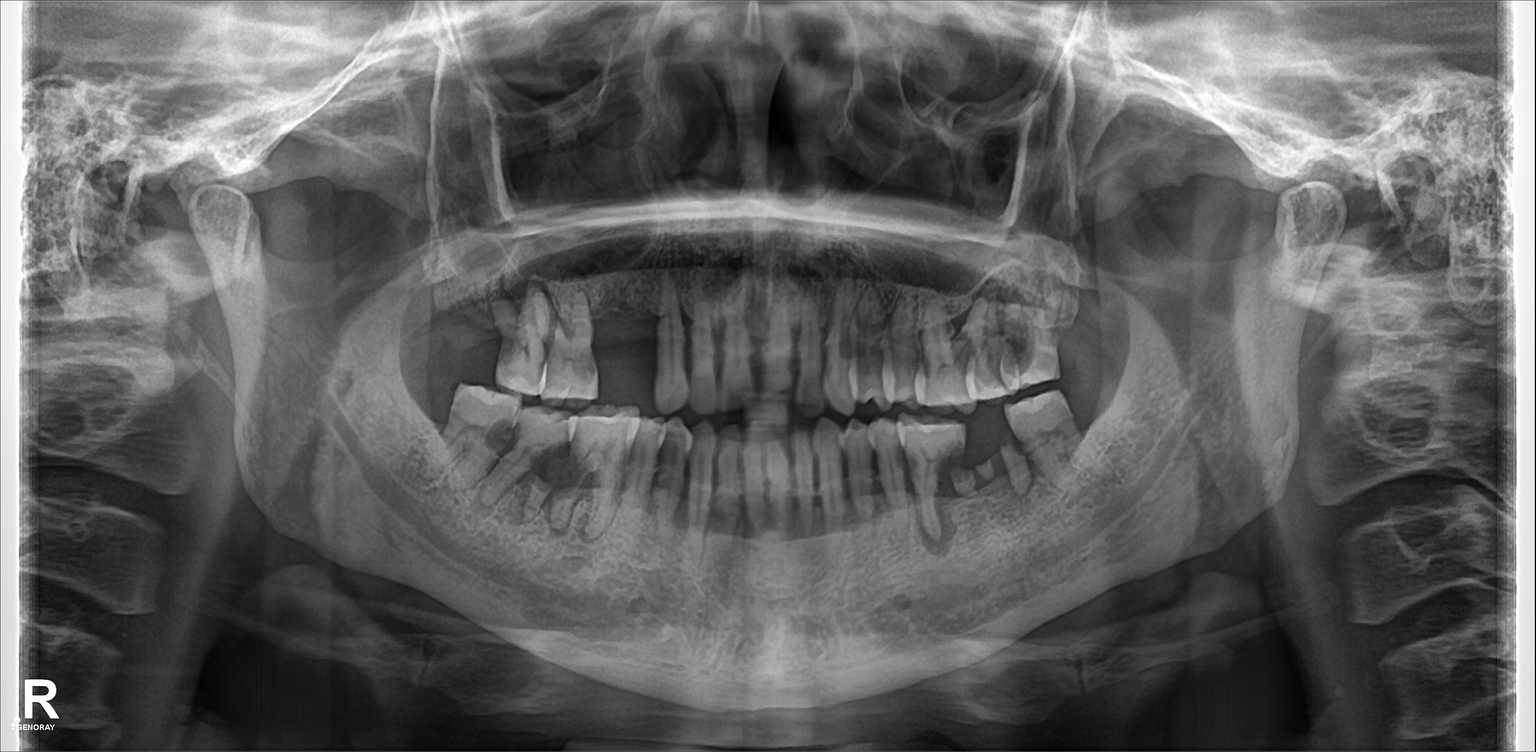Dental Caries: (534, 443, 577, 486), (1002, 324, 1031, 364), (486, 421, 518, 451)
Missing Tooth: (1056, 275, 1113, 365), (607, 300, 654, 395), (451, 277, 495, 369), (412, 275, 451, 369), (415, 374, 459, 451)
Retained Root: (980, 426, 1016, 506), (953, 437, 976, 521)
